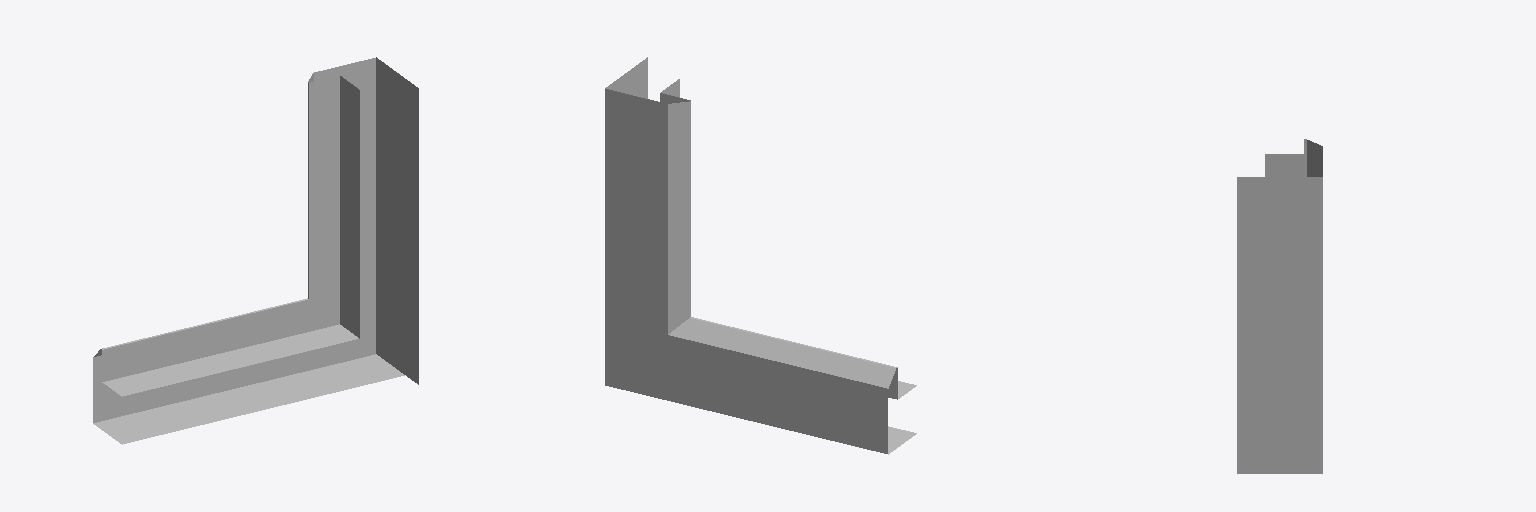
File: original-101.obj
3 views of the same model, side by side, from view 1: azimuth 30°, elevation 25°; view 2: azimuth 150°, elevation 25°; view 3: azimuth 270°, elevation 25° (orthographic).
Visible parts, largest first — view 1: #ID648; view 2: #ID648; view 3: #ID648.
Boxes of the visible parts, x1=… form: #ID648: x1=93, y1=57, x2=418, y2=444; #ID648: x1=605, y1=57, x2=916, y2=454; #ID648: x1=1237, y1=139, x2=1322, y2=473.
Size of the model in its own units: 0.1274 by 0.1274 by 0.0332.